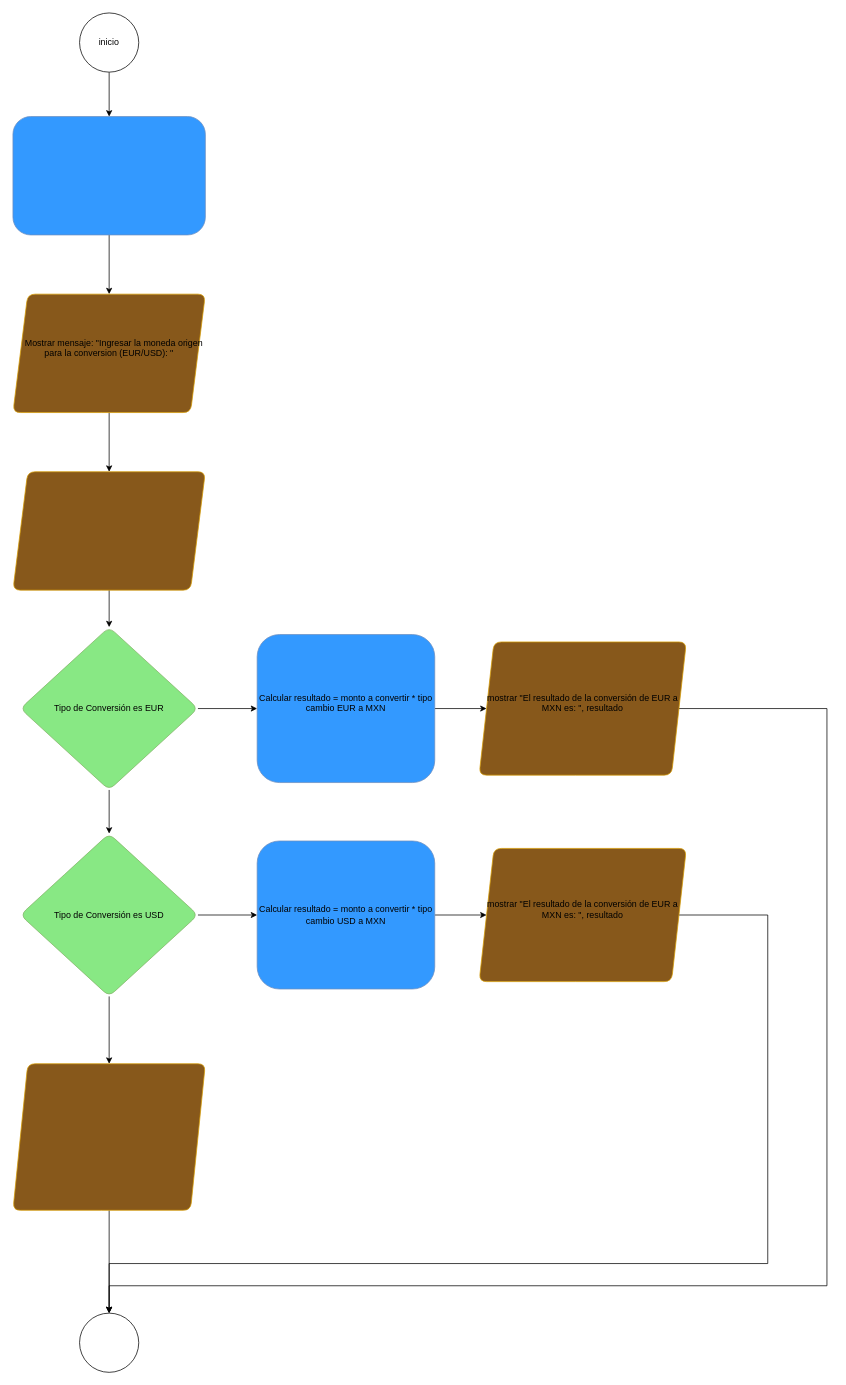
Some shapes in this 846 by 1385 pixel diagram are drawn without their labels. The centre of each missing label's shape, as x and y in pixels:
Definir Tipo Cambio EUR a MXN = 23.70 definir Tipo Cambio MXN a EUR = 20.75: point 108,175
Fin: point 109,1342
Mostrar mensaje: "Ingrese el monton a convertir: ": point 108,530
Mostrar: "No está permitido este tipo de conversión actualmente": point 108,1136
